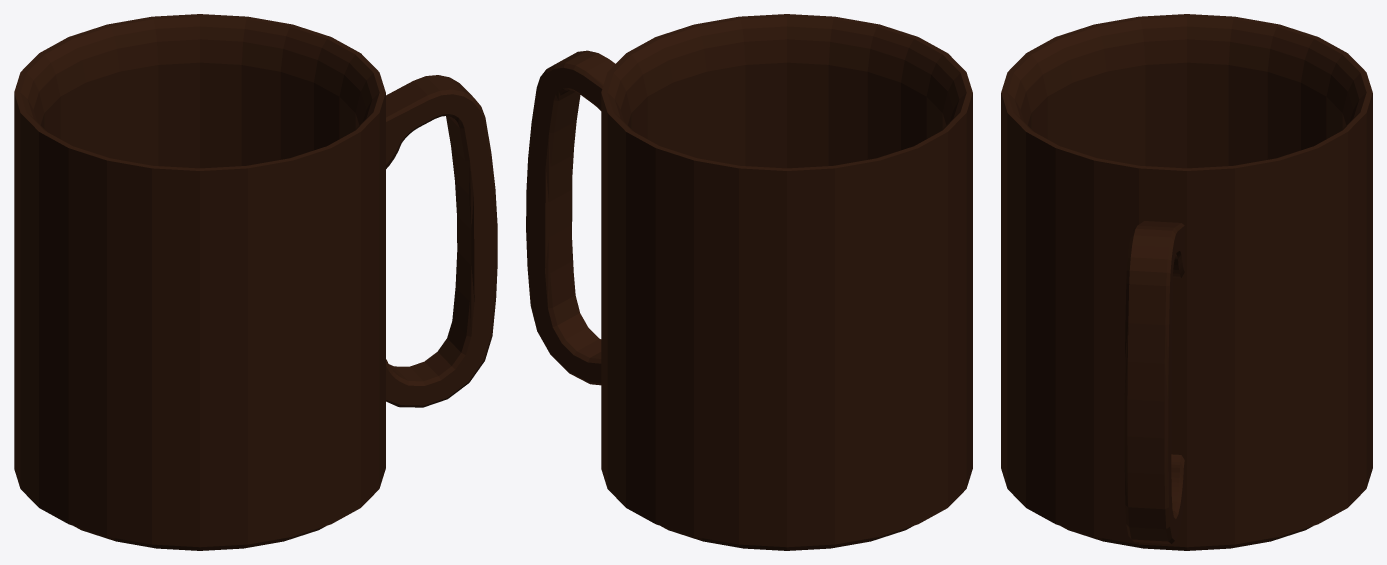
3 renders of one model, left to right at view 1: azimuth 30°, elevation 25°; view 2: azimuth 150°, elevation 25°; view 3: azimuth 270°, elevation 25°, orthographic.
Visible parts, largest first — view 1: mesh2_mesh2-geometry, mesh1_mesh1-geometry; view 2: mesh2_mesh2-geometry, mesh1_mesh1-geometry; view 3: mesh2_mesh2-geometry, mesh1_mesh1-geometry.
Part boxes in pixels (x1=…): mesh2_mesh2-geometry: x1=14, y1=14, x2=385, y2=550; mesh1_mesh1-geometry: x1=386, y1=75, x2=497, y2=407; mesh2_mesh2-geometry: x1=601, y1=14, x2=972, y2=550; mesh1_mesh1-geometry: x1=526, y1=50, x2=615, y2=385; mesh2_mesh2-geometry: x1=1001, y1=14, x2=1372, y2=550; mesh1_mesh1-geometry: x1=1124, y1=221, x2=1184, y2=544.
Size of the model in its own units: 0.6619 by 0.5656 by 0.4918.
